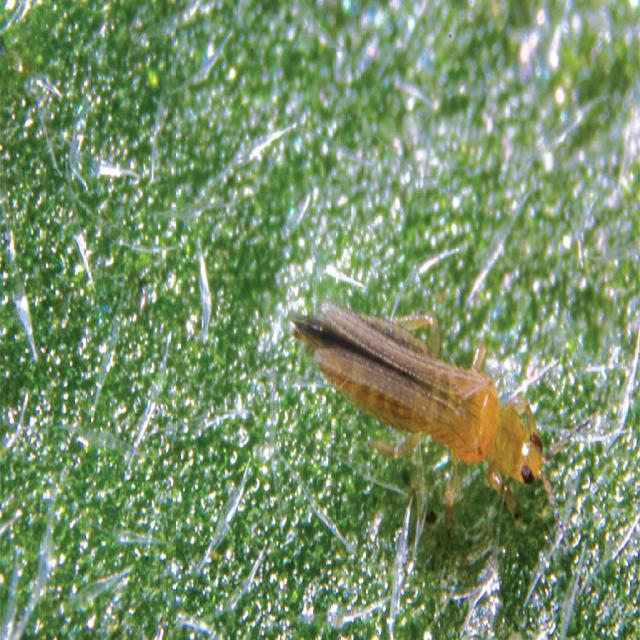thrip: (267, 273, 579, 527)
